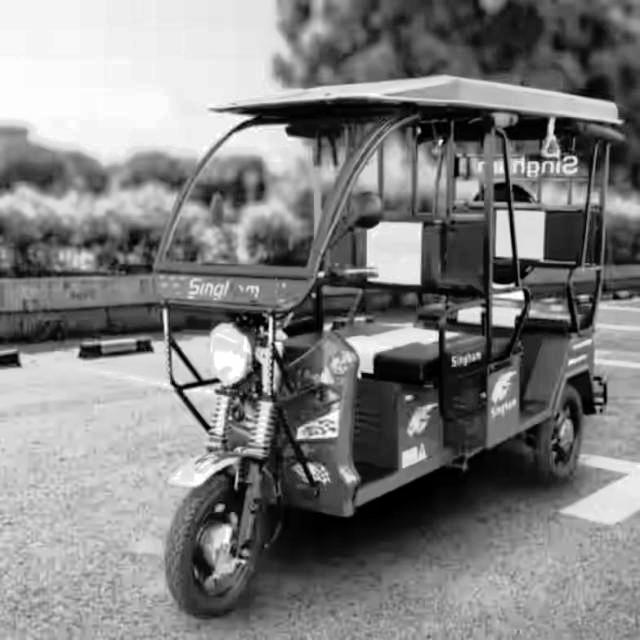Toto: (173, 68, 636, 632)
